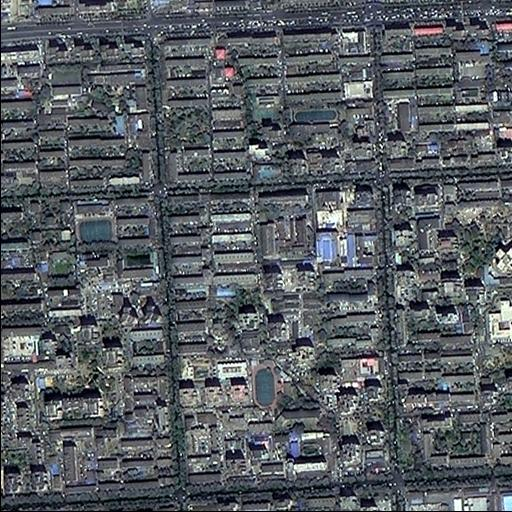school: (250, 358, 321, 419), (72, 198, 114, 250), (289, 104, 344, 135), (248, 88, 284, 122)
